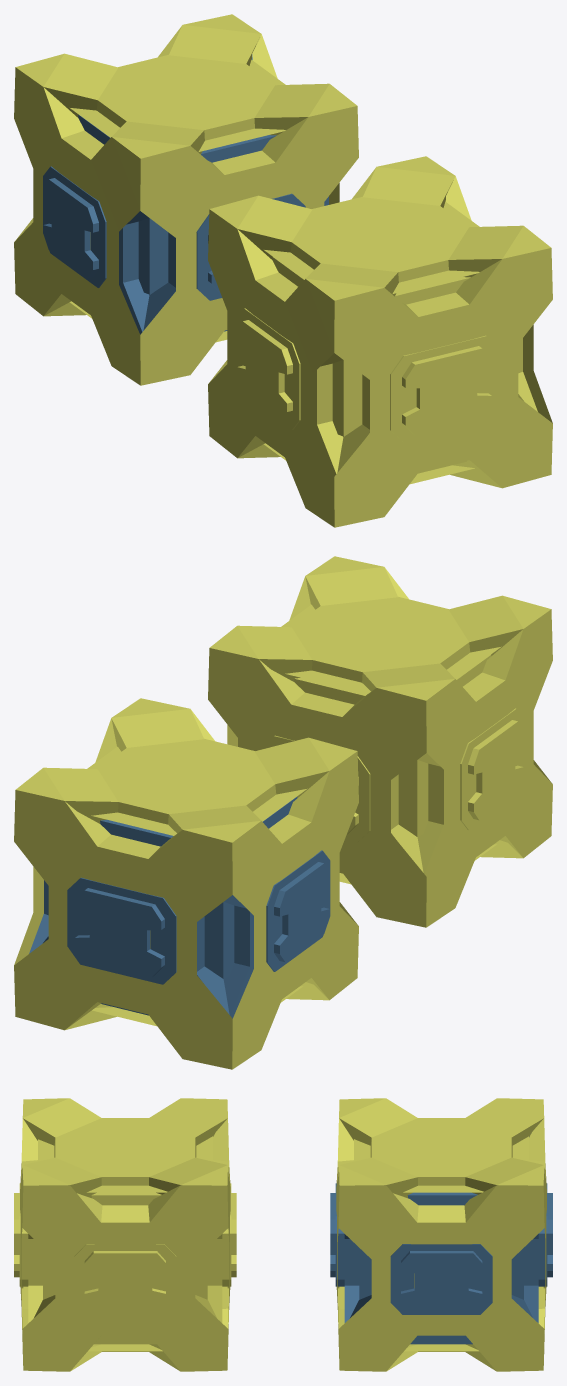
File: collectibles_definitivo.fbx
3 views of the same model, one above another, from view 1: azimuth 30°, elevation 25°; view 2: azimuth 150°, elevation 25°; view 3: azimuth 270°, elevation 25° (orthographic). The views are drawn at different scales.
Visible parts, largest first — view 1: energy_boost_outliner, shield_boost_outliner, energy_boost_low, shield_boost_low; view 2: shield_boost_outliner, energy_boost_outliner, shield_boost_low, energy_boost_low; view 3: energy_boost_outliner, shield_boost_outliner, energy_boost_low, shield_boost_low.
Part boxes in pixels (x1,y1,x2,y2): energy_boost_outliner: [208, 156, 552, 527]; shield_boost_outliner: [14, 14, 358, 385]; energy_boost_low: [236, 196, 537, 476]; shield_boost_low: [43, 54, 328, 334]; shield_boost_outliner: [14, 698, 358, 1069]; energy_boost_outliner: [208, 556, 552, 927]; shield_boost_low: [29, 796, 330, 1018]; energy_boost_low: [238, 655, 523, 876]; energy_boost_outliner: [20, 1098, 230, 1371]; shield_boost_outliner: [336, 1098, 546, 1371]; energy_boost_low: [14, 1183, 236, 1344]; shield_boost_low: [330, 1183, 552, 1344].
Size of the model in its own units: 3.13 by 2.9 by 7.58.
